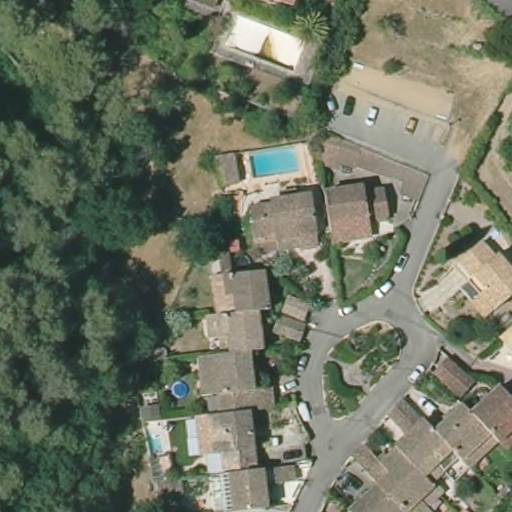pool: (235, 140, 315, 181), (145, 430, 171, 462), (164, 375, 194, 402)
